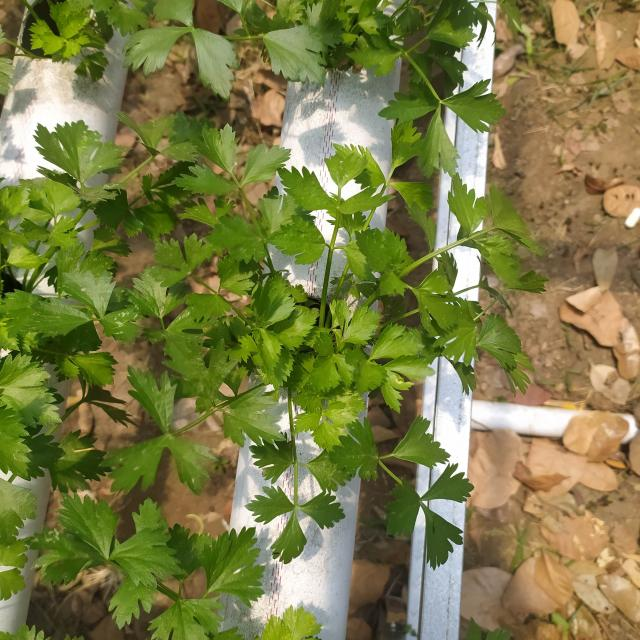Wet Waste: (100, 141, 604, 632)
